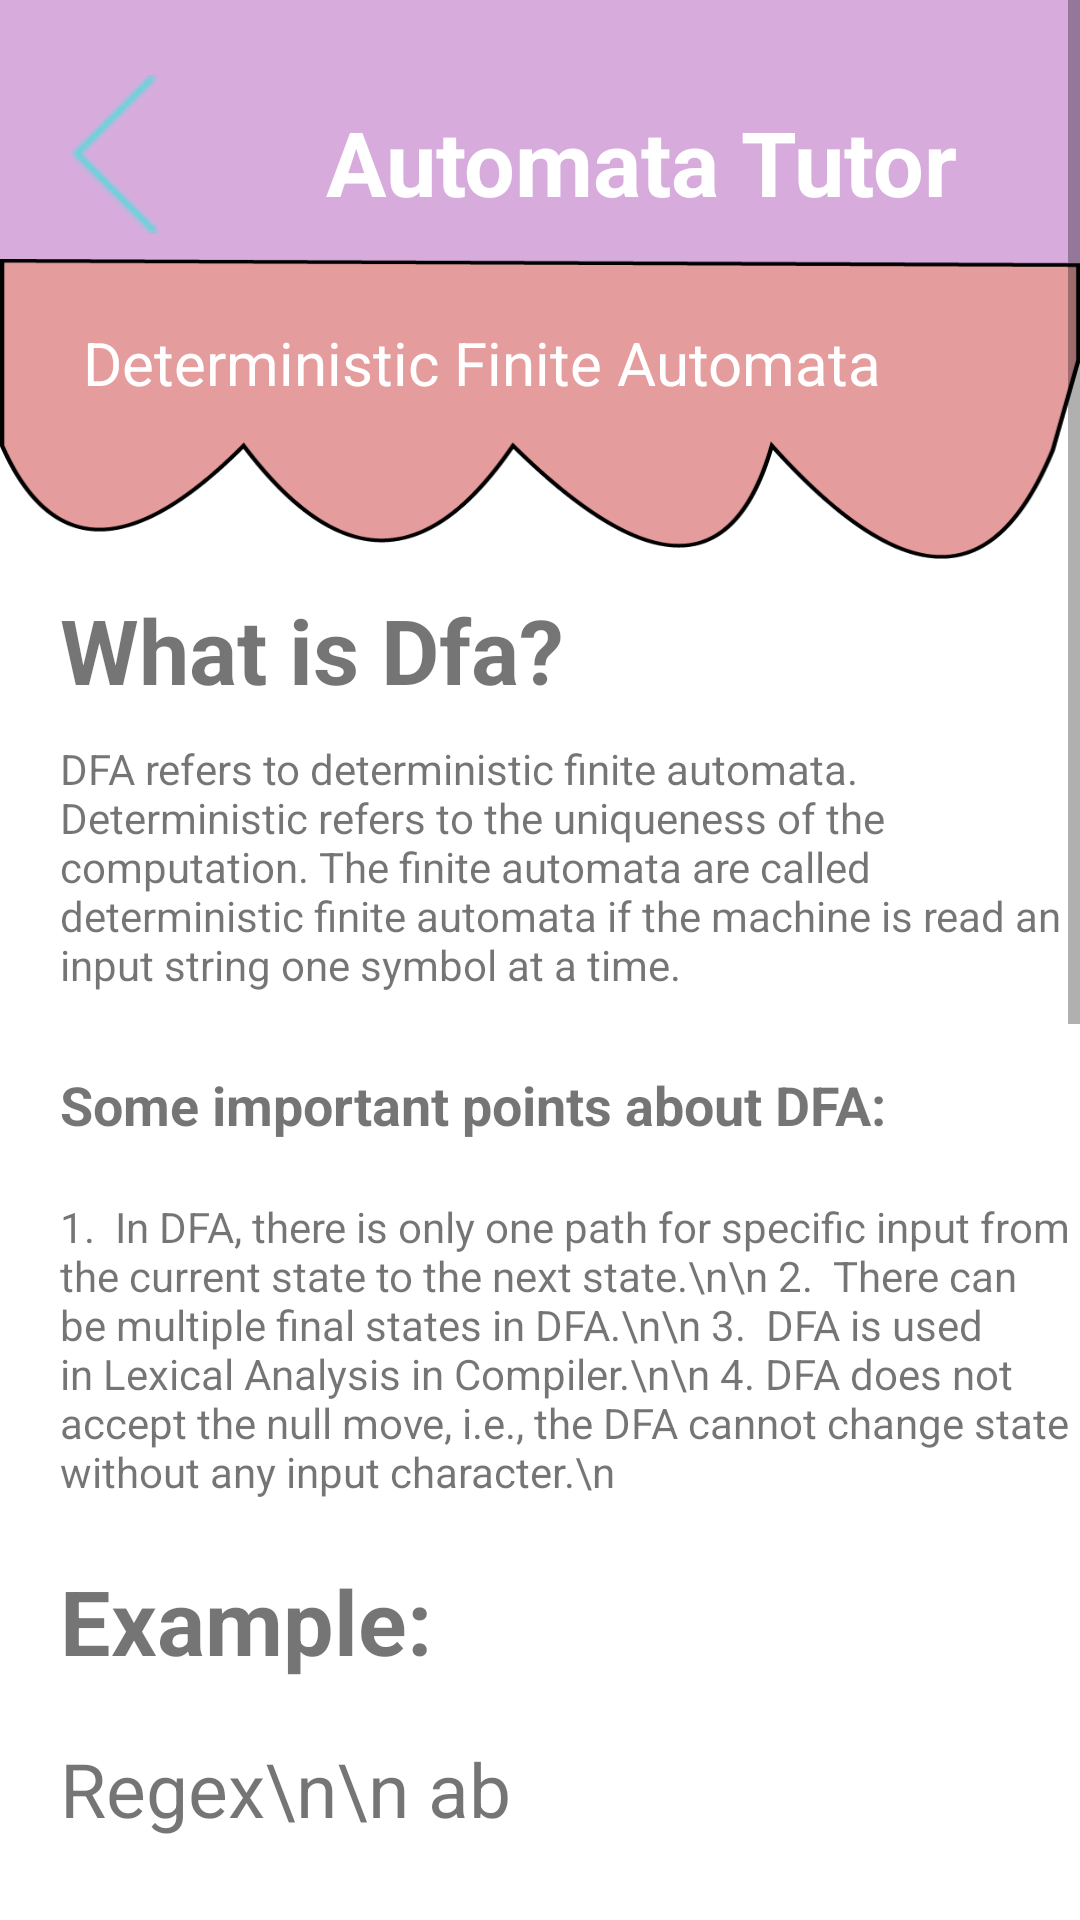

Where icons sit on this 1080 × 1920 app screen, as {"left": x1, "top": y1, "right": x2, "bottom": y2}:
backiconimg: {"left": 72, "top": 75, "right": 158, "bottom": 234}
